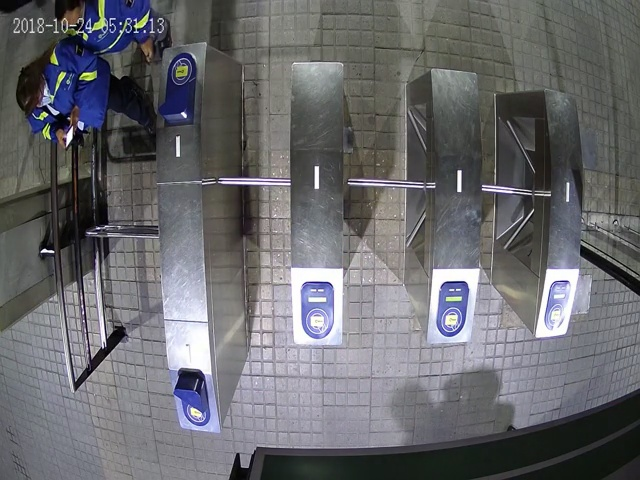Chaleco_azul: (15, 40, 157, 146), (54, 1, 172, 57)
